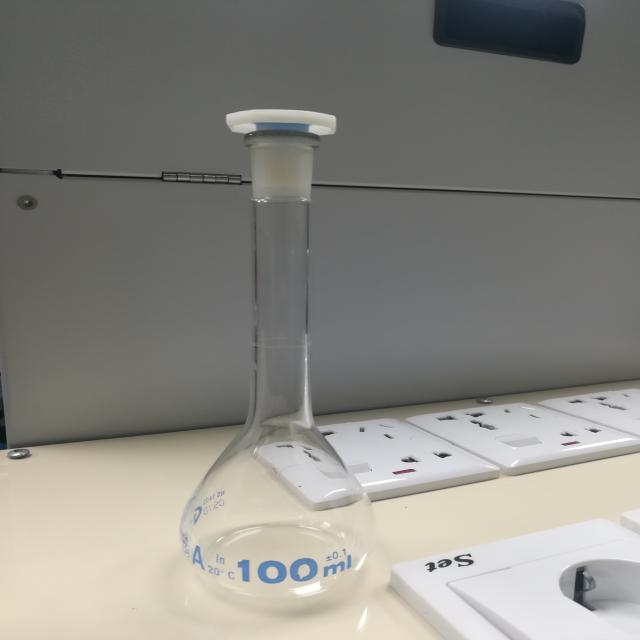Volumetric_Flask: (142, 60, 425, 629)
